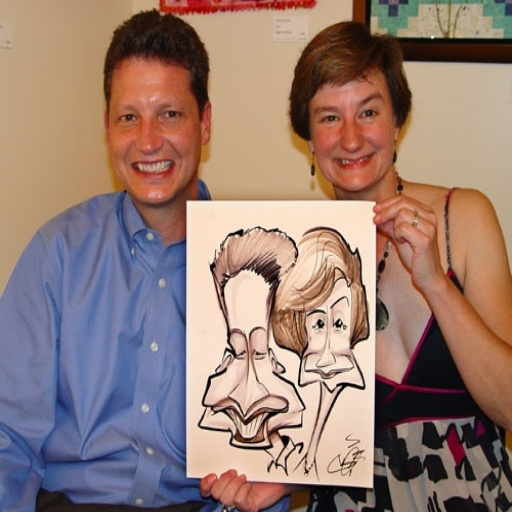hand: (372, 185, 463, 297), (197, 467, 293, 510)
